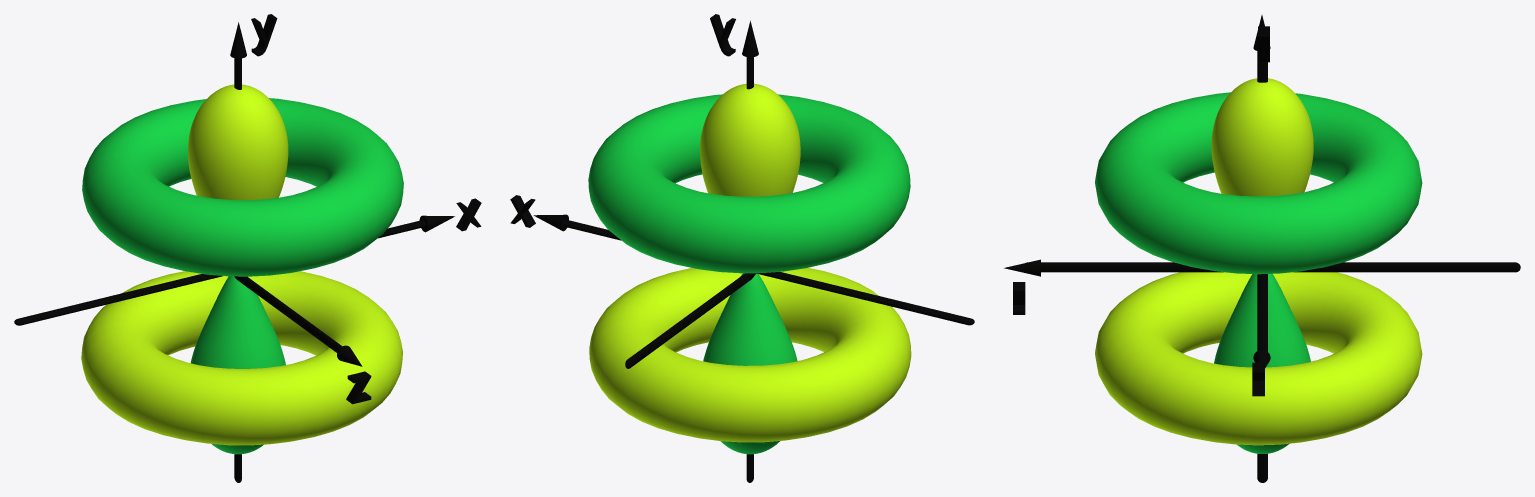
Rendered from forbital.fbx.
3 views of the same model, side by side, from view 1: azimuth 30°, elevation 25°; view 2: azimuth 150°, elevation 25°; view 3: azimuth 270°, elevation 25° (orthographic).
Parts seen in each view (by area): view 1: node_id151, node_id167, node_id56, node_id34, root (×2), node_id107, node_id109, node_id105; view 2: node_id151, node_id167, node_id56, node_id34, root (×3), node_id107, node_id105; view 3: node_id151, node_id167, node_id56, node_id34, root (×3).
Boxes of the visible parts, x1=… form: node_id151: x1=81, y1=271, x2=402, y2=445; node_id167: x1=82, y1=98, x2=403, y2=276; node_id56: x1=188, y1=84, x2=288, y2=200; node_id34: x1=190, y1=276, x2=285, y2=454; root (×2): x1=14, y1=220, x2=426, y2=354; node_id107: x1=251, y1=14, x2=277, y2=56; node_id109: x1=346, y1=371, x2=371, y2=404; node_id105: x1=456, y1=198, x2=481, y2=231; node_id151: x1=589, y1=268, x2=911, y2=442; node_id167: x1=588, y1=94, x2=910, y2=273; node_id56: x1=700, y1=83, x2=800, y2=196; node_id34: x1=703, y1=273, x2=797, y2=454; root (×3): x1=548, y1=41, x2=974, y2=482; node_id107: x1=710, y1=14, x2=735, y2=56; node_id105: x1=510, y1=195, x2=535, y2=227; node_id151: x1=1095, y1=272, x2=1422, y2=445; node_id167: x1=1095, y1=92, x2=1422, y2=274; node_id56: x1=1211, y1=78, x2=1313, y2=196; node_id34: x1=1214, y1=273, x2=1310, y2=453; root (×3): x1=1025, y1=51, x2=1520, y2=482.
Size of the model in its own units: 0.8474 by 0.8087 by 0.8087.
9 materials, 6 textured.
